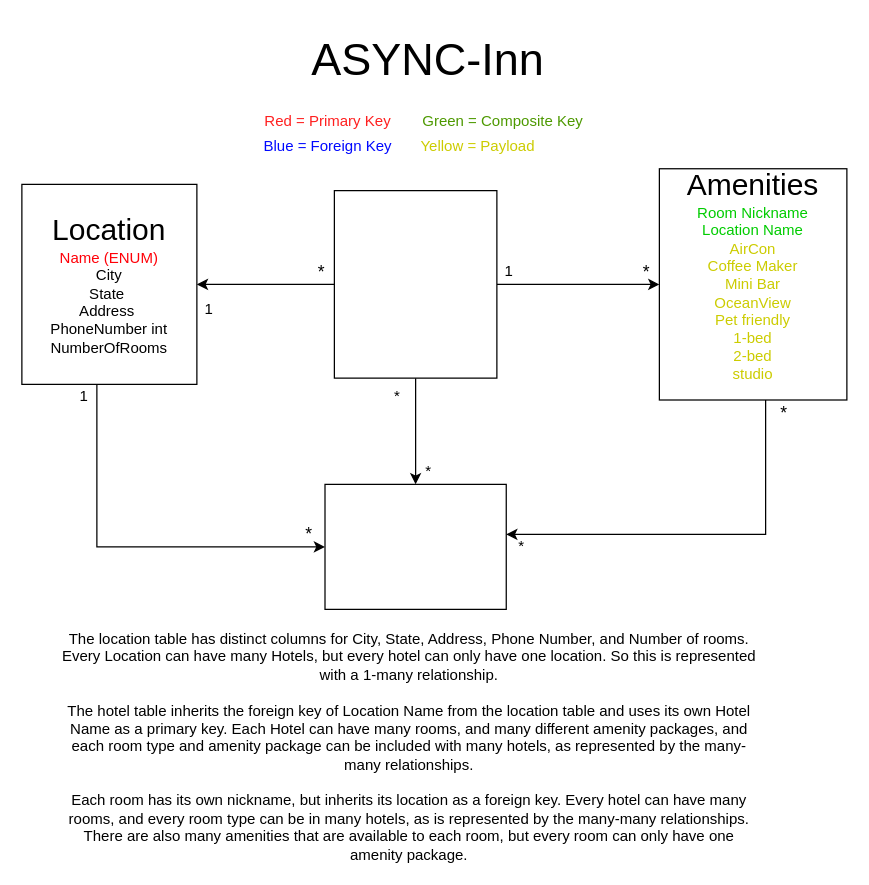
This 869x885 diagram has some shape labels left out. Each missing label, with the centre of its shape:
"Hotel priceByLocation #Rooms RoomType Location Name" belongs at pixel 415 283.
"Room Nickname(ENUM) Location Price" belongs at pixel 415 546.
